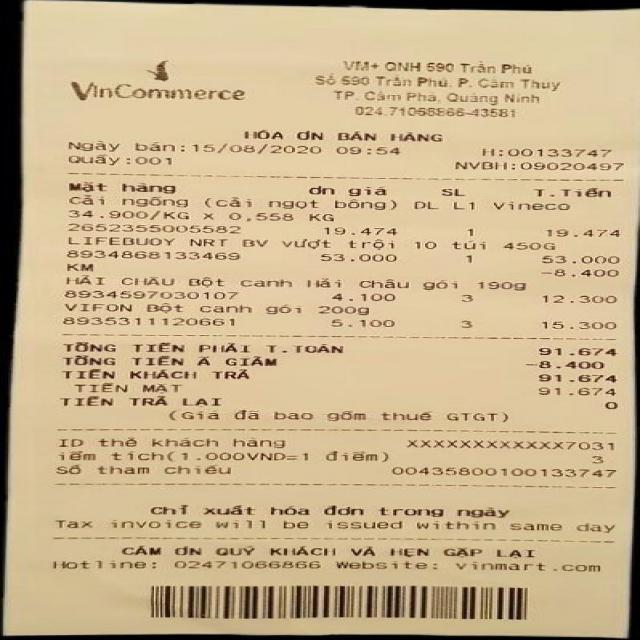Date: (194, 140, 322, 158)
Store_Name: (70, 77, 248, 110)
amount_number: (540, 343, 620, 359)
label_total: (60, 341, 350, 356)
